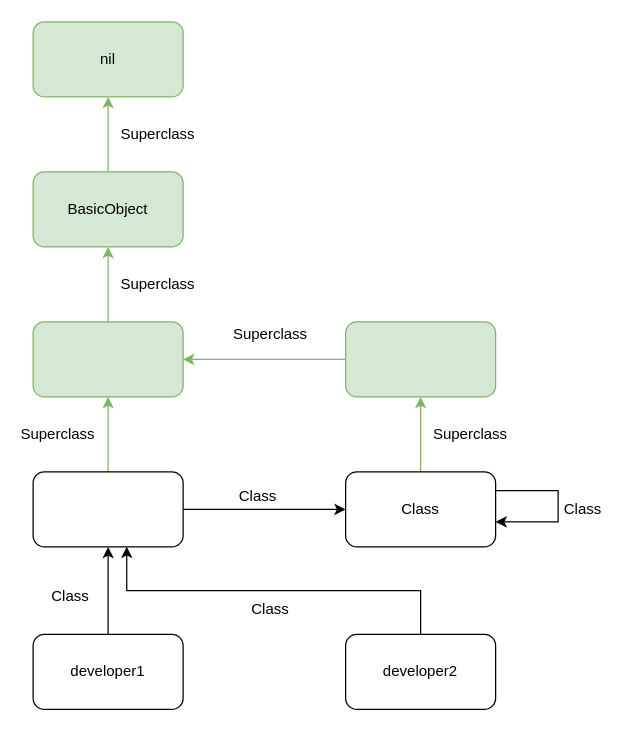
This 630x731 diagram has some shape labels left out. The box of each missing label's shape, as (x1, y1, x2, y2) in pixels:
Developer: (32, 471, 183, 547)
Module: (344, 321, 496, 397)
Object: (32, 321, 183, 397)
